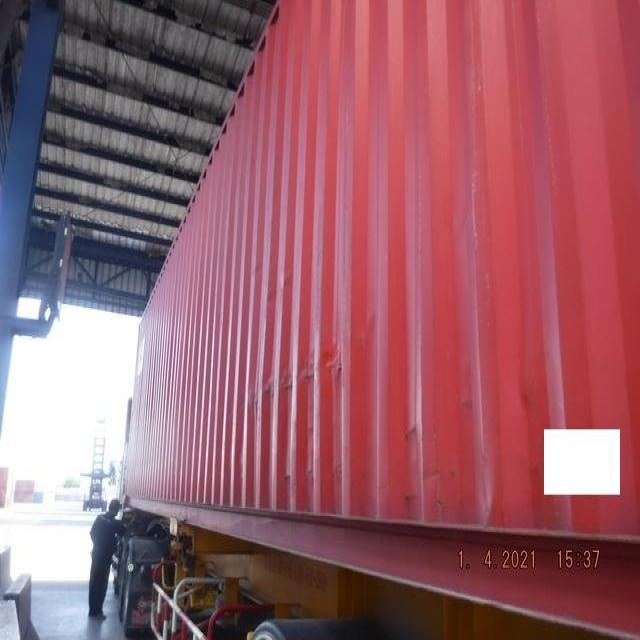dent: (244, 339, 354, 419)
